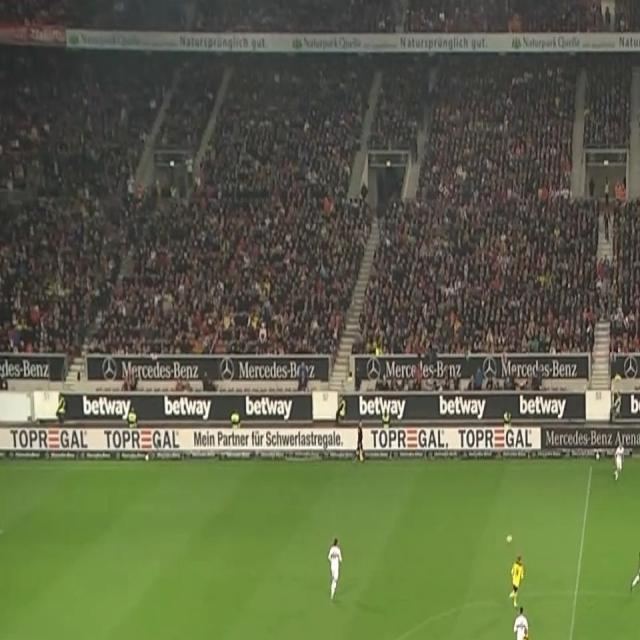ball: (506, 533, 513, 545)
